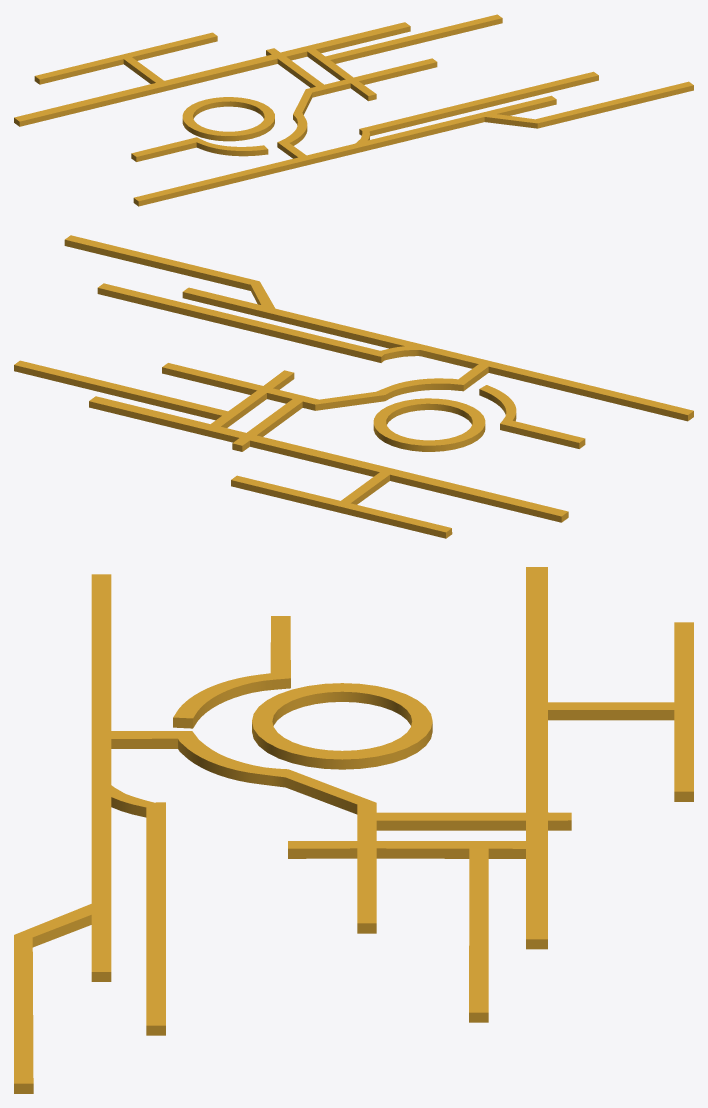
The model's file is DekorBig5.fbx.
3 views of the same model, one above another, from view 1: azimuth 30°, elevation 25°; view 2: azimuth 150°, elevation 25°; view 3: azimuth 270°, elevation 25° (orthographic). The views are drawn at different scales.
Visible parts, largest first — view 1: Dekor5; view 2: Dekor5; view 3: Dekor5.
Boxes of the visible parts, x1,y1,x2,y2 form: Dekor5: (14, 14, 693, 206); Dekor5: (14, 235, 693, 538); Dekor5: (14, 567, 693, 1093).
Bounding box in the file's own units: 363 × 3.33 × 202.
